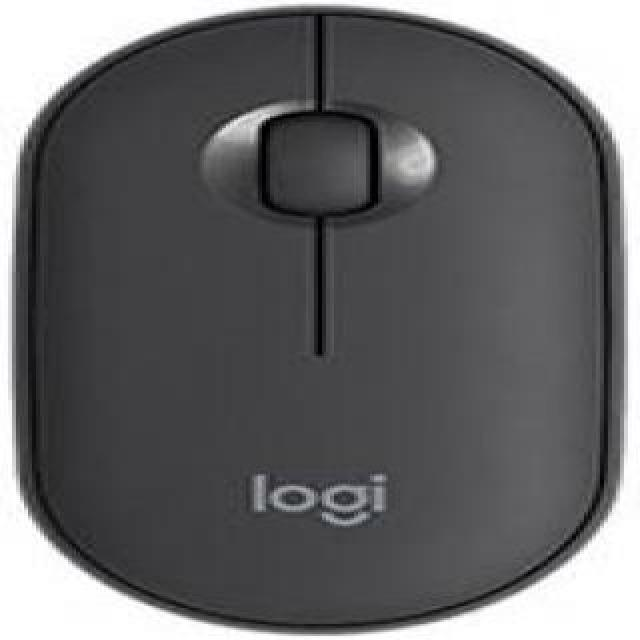mouse: (27, 20, 610, 572)
